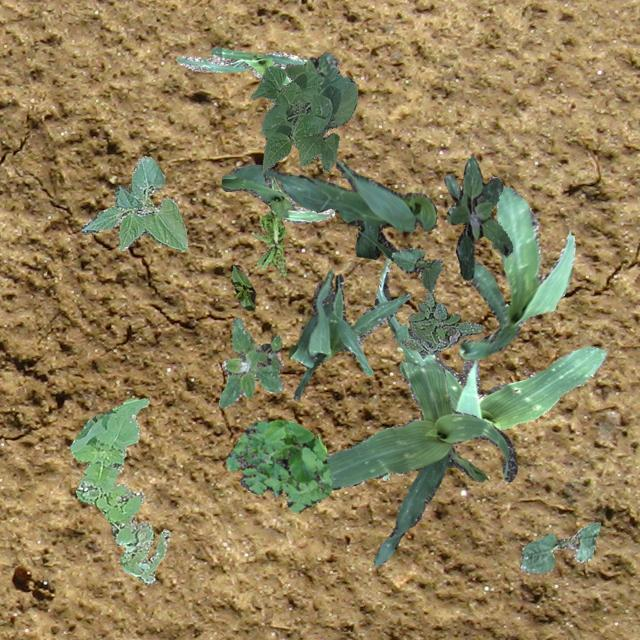crop: (374, 256, 606, 428), (326, 360, 516, 564), (230, 160, 436, 260), (458, 184, 574, 358), (288, 268, 410, 399), (250, 64, 356, 172), (80, 154, 186, 250), (220, 174, 334, 222), (174, 46, 306, 84), (518, 520, 600, 572), (391, 247, 442, 290), (228, 264, 254, 310)
weed: (70, 398, 170, 584), (225, 418, 332, 512), (442, 156, 512, 278), (218, 316, 282, 406), (399, 290, 482, 354), (250, 208, 286, 274), (284, 51, 338, 78), (382, 470, 391, 480)
